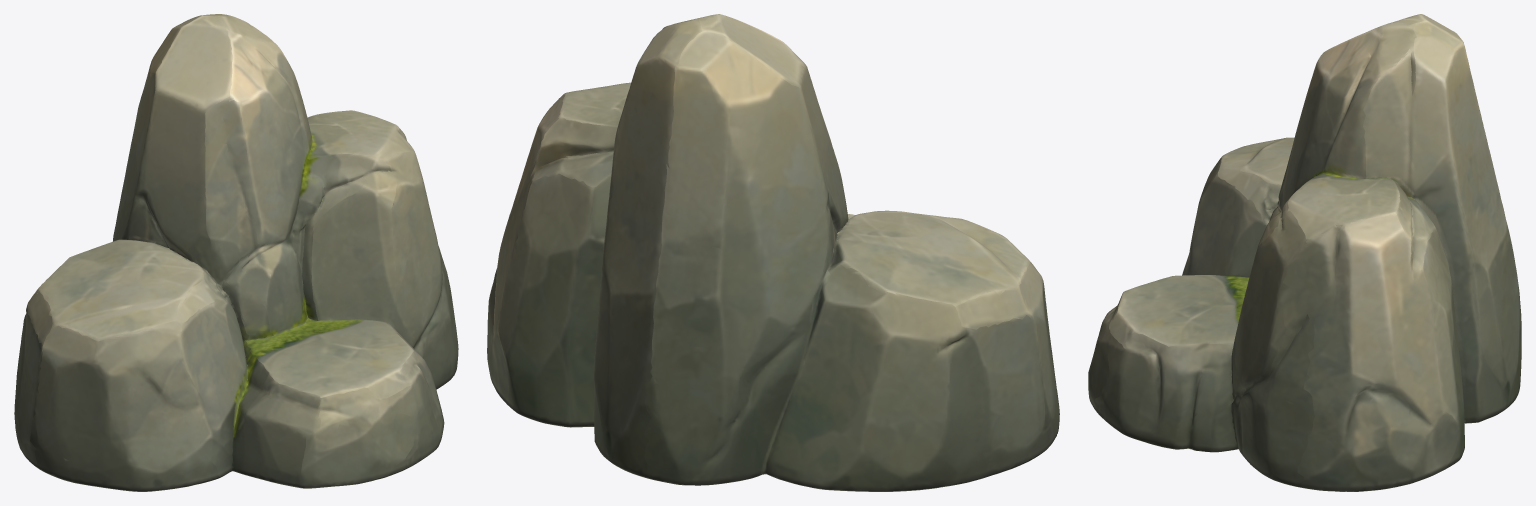
File: rear-rock-lux3d-v1.glb
The picture shows the model from 3 angles, left to right: view 1: azimuth 30°, elevation 25°; view 2: azimuth 150°, elevation 25°; view 3: azimuth 270°, elevation 25°; orthographic projection. The views are drawn at different scales.
Visible parts, largest first — view 1: geometry_0; view 2: geometry_0; view 3: geometry_0.
Boxes of the visible parts, x1,y1,x2,y2 form: geometry_0: (14,14,458,491); geometry_0: (487,14,1059,491); geometry_0: (1088,14,1521,491).
Bounding box in the file's own units: 0.8 × 0.6163 × 0.6527.
1 material, 1 textured.
